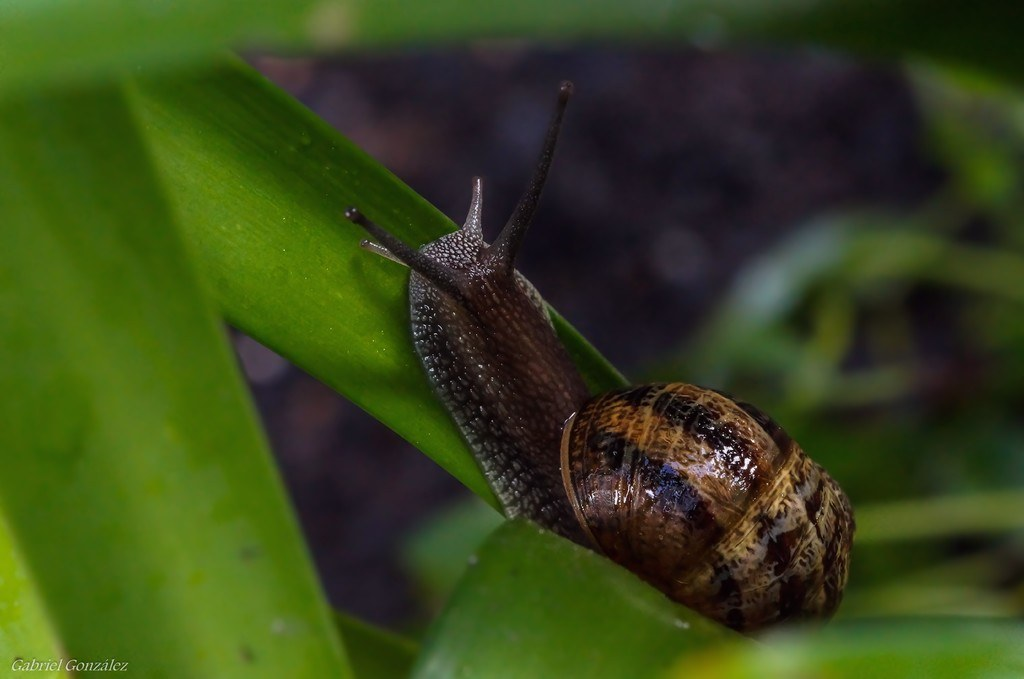insect: (342, 79, 867, 653), (342, 76, 858, 641)
